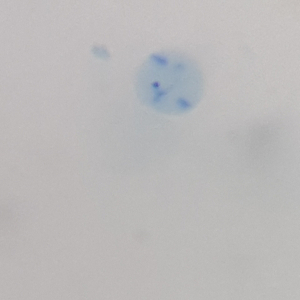aggregate reticulocyte: (133, 47, 205, 117)
